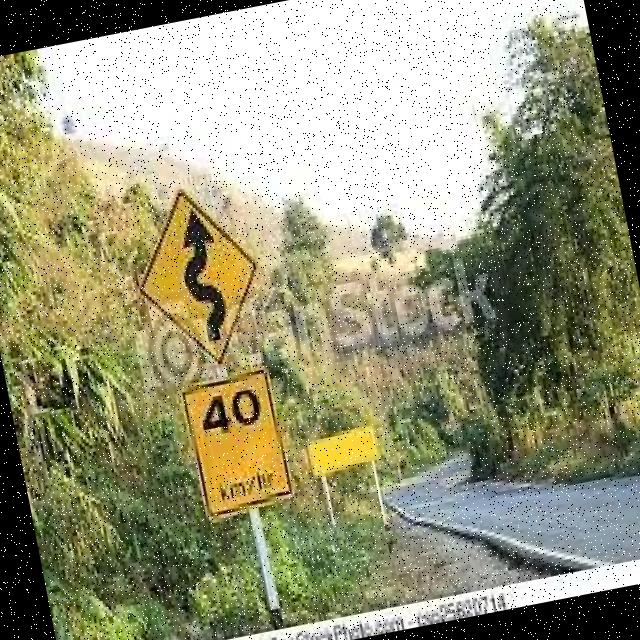left_sharp_curve: (119, 172, 278, 381)
